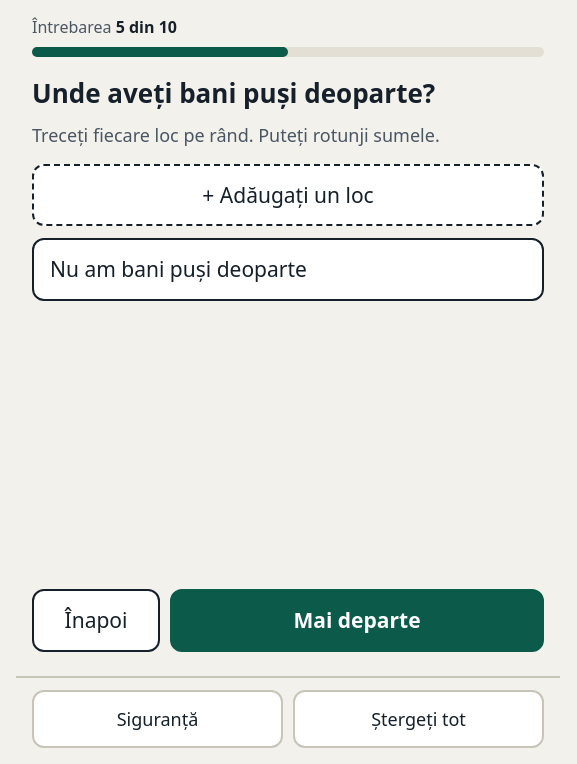
Test: lista de locuri › fara niciun loc: trebuie spus anume ca nu exista bani pusi deoparte
The image size is (577, 764).
Click the button "Mai departe".
click(357, 621)  # box left=170, top=590, right=544, bottom=652
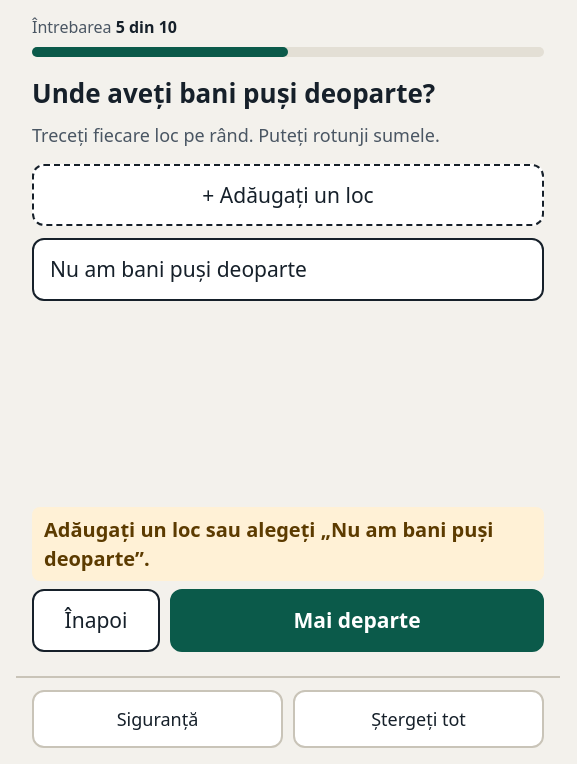
Expected: the message shows "Adăugați un loc", left=44, top=516, right=494, bottom=572
Click the button "Nu am bani puși deoparte".
click(288, 269)  # box left=32, top=238, right=544, bottom=301
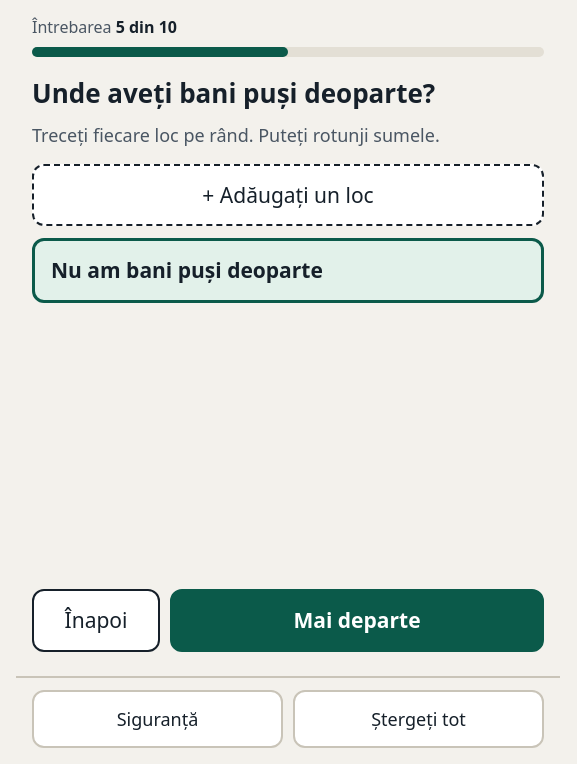
Click the button "Mai departe".
click(357, 621)  # box left=170, top=590, right=544, bottom=652
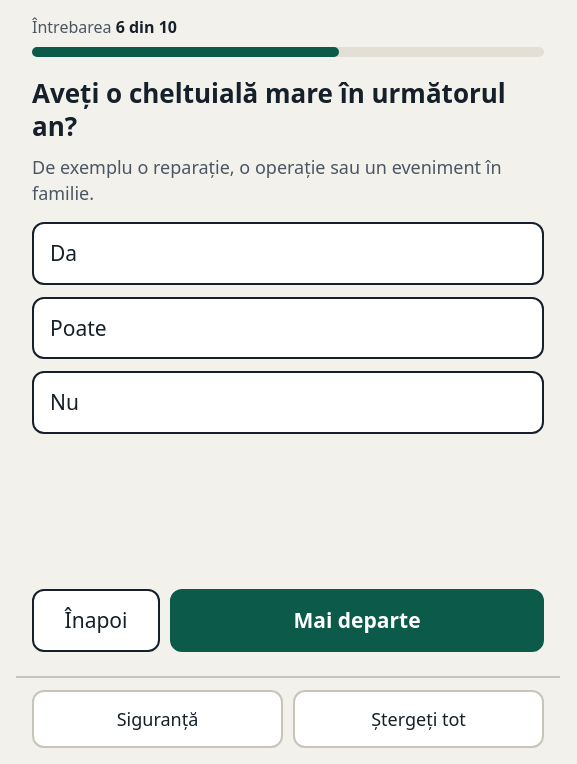
Expected: the text "6 din 10" is shown, left=116, top=16, right=177, bottom=38
